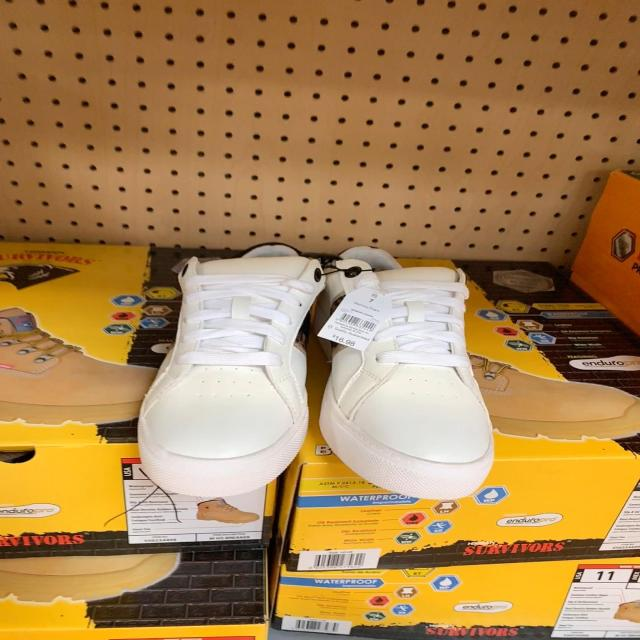shoe: (137, 249, 318, 500), (320, 264, 495, 501)
